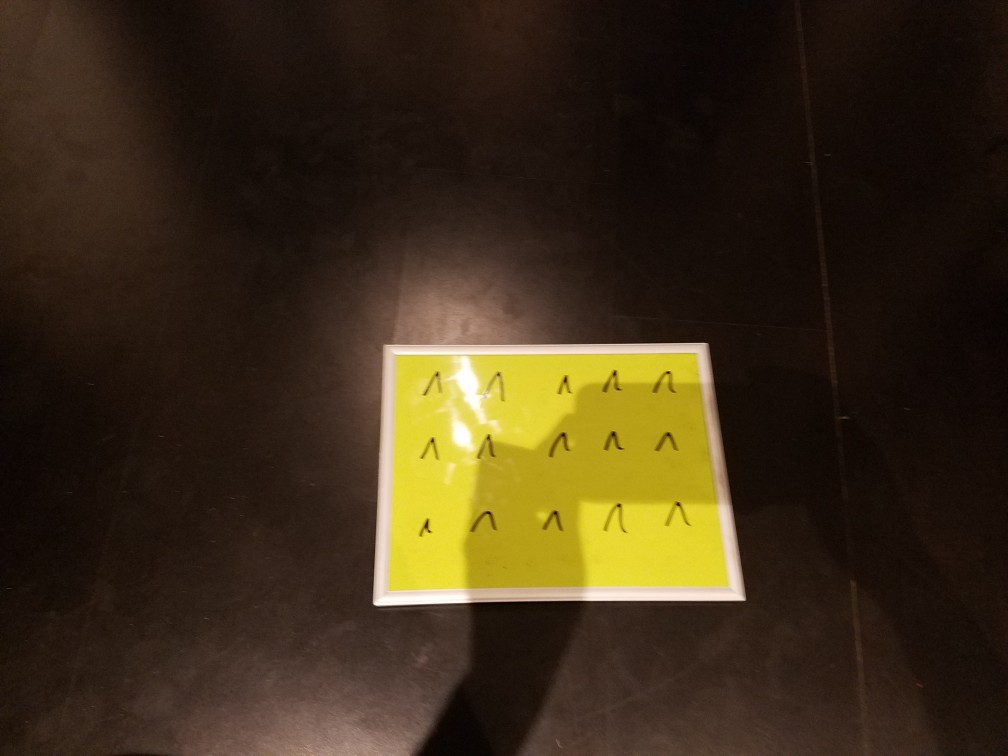^: (657, 494, 703, 542), (463, 498, 506, 545), (593, 497, 630, 542), (479, 366, 512, 413), (407, 504, 442, 545), (417, 430, 452, 470), (646, 363, 682, 401), (539, 498, 571, 540), (413, 360, 446, 399), (646, 424, 682, 459), (540, 428, 571, 459), (599, 364, 627, 398), (552, 366, 577, 404), (475, 433, 500, 468), (600, 427, 627, 457)
